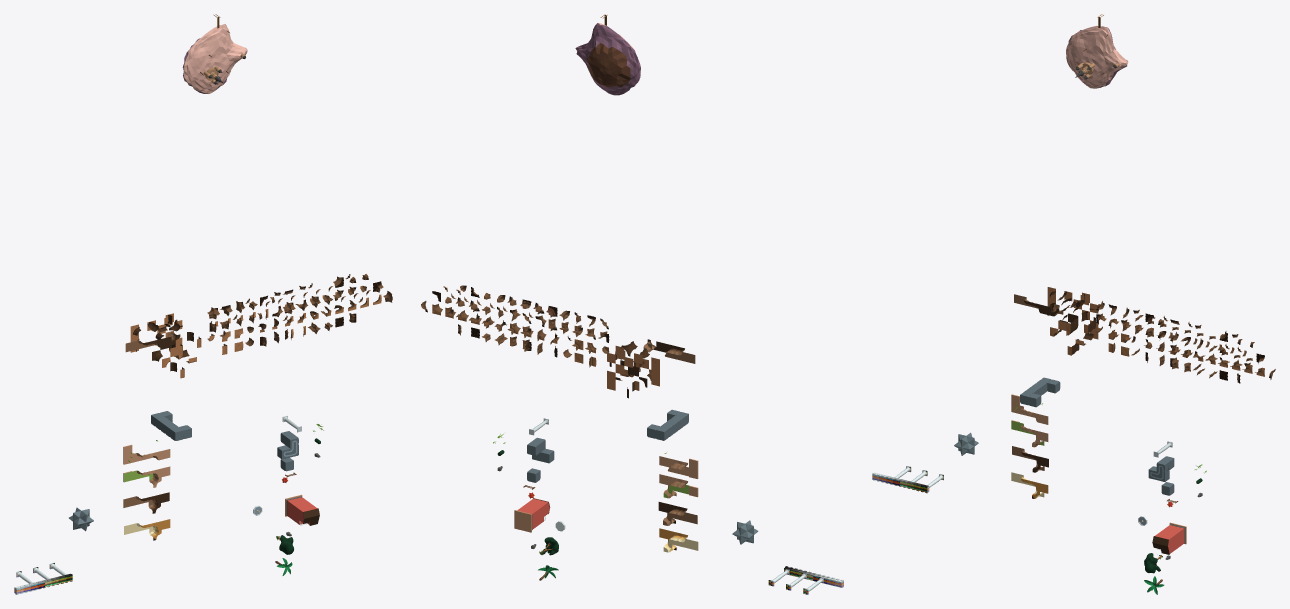
The model's file is rocks.glb.
3 views of the same model, side by side, from view 1: azimuth 30°, elevation 25°; view 2: azimuth 150°, elevation 25°; view 3: azimuth 330°, elevation 25° (orthographic). The views are drawn at different scales.
Parts seen in each view (by area): view 1: Cylinder.001, House, WeirdCubeCorner; view 2: Cylinder.001, Full.005, Full.007, Terrain; view 3: Cylinder.001, House.
Part boxes in pixels (x1,y1,x2,y2): Cylinder.001: (182, 24, 247, 93); House: (286, 496, 319, 525); WeirdCubeCorner: (277, 431, 298, 459); Cylinder.001: (575, 23, 640, 95); Full.005: (659, 474, 698, 498); Full.007: (659, 528, 698, 552); Terrain: (658, 502, 697, 525); Cylinder.001: (1066, 26, 1128, 88); House: (1152, 524, 1185, 554).
Size of the model in its own units: 93.37 by 130 by 15.22.
Materials: 4 (4 with a texture image).
